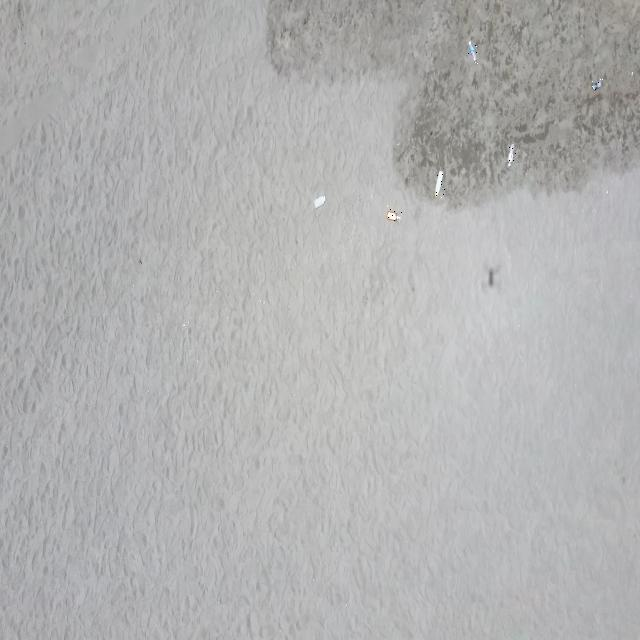Garbage: (435, 169, 443, 196), (467, 41, 475, 63), (387, 208, 400, 220), (313, 195, 324, 207), (592, 77, 602, 89), (508, 144, 513, 166)
